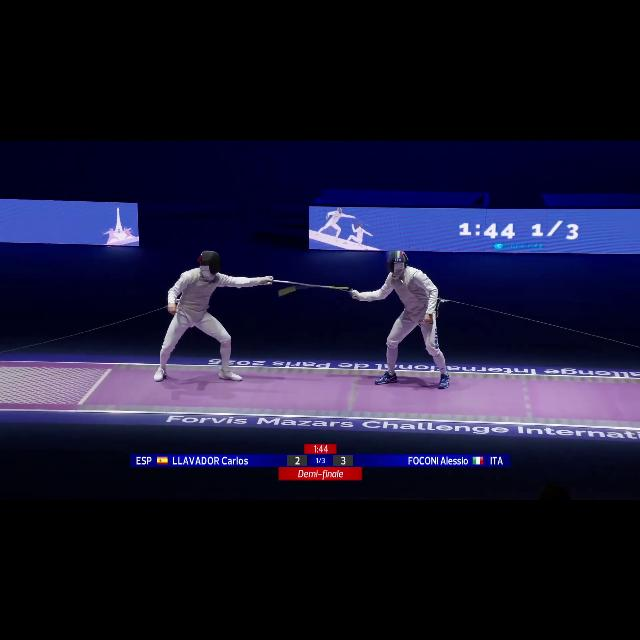blade: (270, 276, 362, 298), (276, 285, 364, 295)
